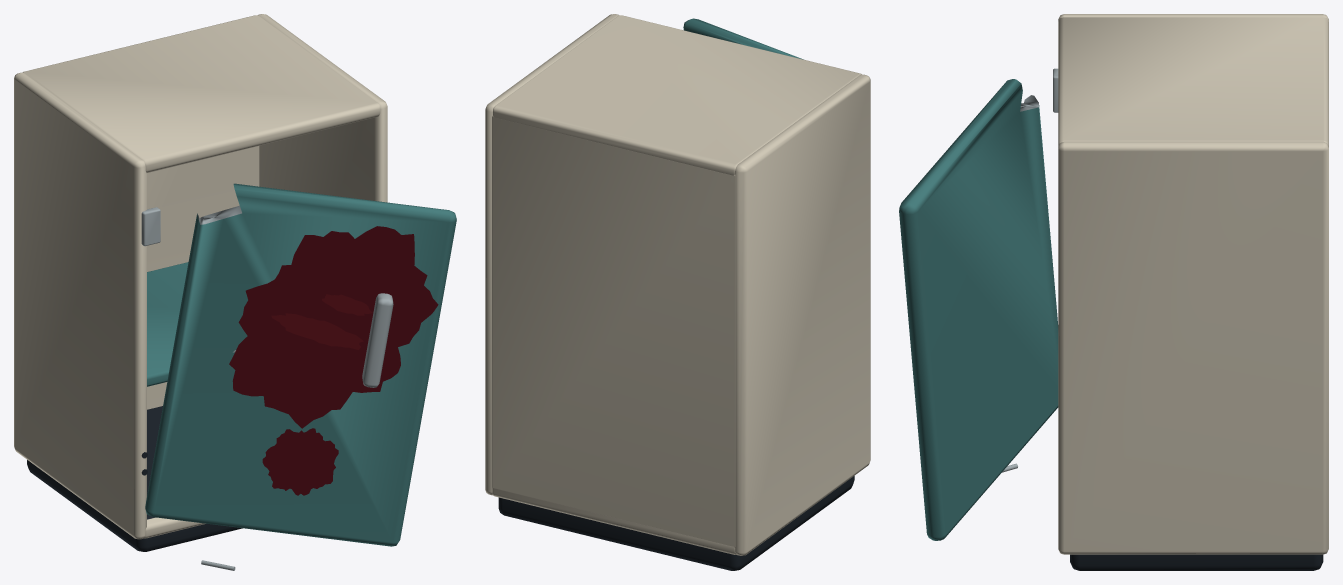
File: handwash_cabinet_base.glb
3 views of the same model, side by side, from view 1: azimuth 30°, elevation 25°; view 2: azimuth 150°, elevation 25°; view 3: azimuth 270°, elevation 25° (orthographic). The views are drawn at different scales.
Visible parts, largest first — view 1: Outbreak_Clinical_Handwash_Cabinet_Base_Static; view 2: Outbreak_Clinical_Handwash_Cabinet_Base_Static; view 3: Outbreak_Clinical_Handwash_Cabinet_Base_Static.
Part boxes in pixels (x1,y1,x2,y2): Outbreak_Clinical_Handwash_Cabinet_Base_Static: (14, 14, 456, 570); Outbreak_Clinical_Handwash_Cabinet_Base_Static: (485, 14, 870, 570); Outbreak_Clinical_Handwash_Cabinet_Base_Static: (899, 14, 1328, 570).
Size of the model in its own units: 0.514 by 0.774 by 0.6955.
